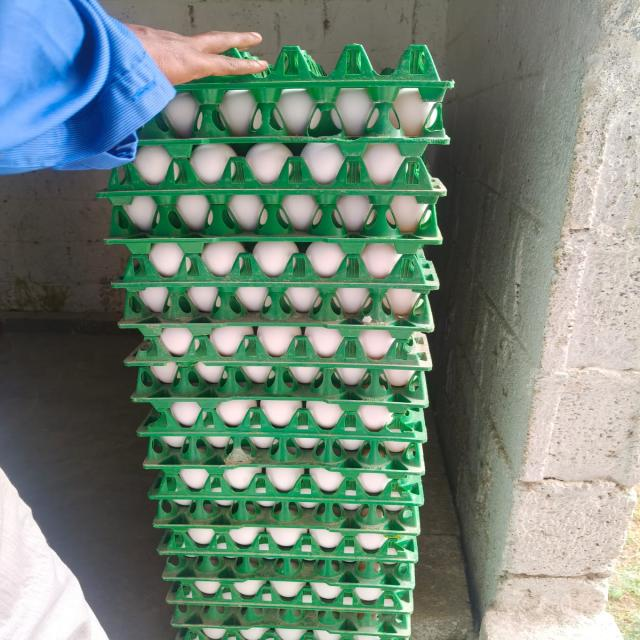egg_tray: (139, 400, 425, 511), (138, 400, 425, 509), (140, 44, 452, 144), (145, 438, 423, 548), (113, 240, 438, 326), (125, 324, 431, 412), (154, 466, 421, 561), (154, 466, 419, 561), (145, 438, 423, 527), (138, 398, 426, 482), (97, 139, 445, 204), (150, 467, 423, 548), (106, 191, 441, 253), (121, 320, 431, 386), (125, 324, 431, 386), (140, 86, 449, 146), (119, 281, 433, 337), (149, 459, 423, 521), (114, 239, 437, 291), (154, 500, 419, 562), (177, 44, 452, 101), (154, 499, 419, 557), (149, 456, 423, 512), (138, 399, 426, 452), (154, 494, 419, 550), (132, 363, 428, 411), (163, 556, 414, 612), (131, 366, 428, 411), (163, 556, 414, 608), (149, 465, 423, 511), (143, 434, 424, 478), (163, 556, 415, 597), (158, 524, 417, 563), (172, 603, 410, 640), (172, 604, 410, 640), (172, 602, 410, 638), (167, 580, 413, 614), (172, 605, 410, 640), (166, 580, 413, 613), (166, 583, 413, 614), (175, 626, 380, 640), (328, 441, 358, 462), (328, 442, 357, 462), (180, 438, 203, 457), (220, 48, 259, 59), (355, 511, 383, 525), (314, 471, 335, 486), (149, 440, 169, 454), (181, 439, 198, 454), (252, 436, 273, 448), (275, 512, 292, 525), (360, 536, 383, 545), (227, 446, 250, 455), (241, 608, 253, 624), (207, 436, 228, 444), (224, 49, 247, 56), (163, 437, 180, 446), (343, 440, 364, 447), (252, 437, 273, 444), (359, 445, 367, 463), (345, 440, 363, 447), (152, 442, 161, 454), (163, 436, 178, 443), (253, 616, 266, 624), (381, 451, 391, 461), (192, 534, 204, 542), (276, 633, 293, 638), (395, 634, 409, 640), (150, 489, 159, 498), (154, 477, 163, 486), (342, 480, 355, 486), (305, 299, 313, 308), (209, 436, 225, 440), (363, 512, 372, 519), (398, 442, 407, 449), (218, 514, 228, 520), (334, 486, 341, 494), (376, 444, 383, 452), (363, 518, 372, 524), (233, 512, 239, 521), (398, 443, 407, 449), (268, 615, 277, 621), (300, 468, 313, 472), (257, 446, 270, 450), (407, 410, 419, 414), (247, 581, 263, 584), (262, 512, 270, 518), (200, 583, 209, 588), (307, 502, 314, 508), (376, 445, 381, 453), (257, 72, 266, 76), (402, 514, 409, 519), (417, 488, 421, 496), (361, 443, 365, 451), (152, 490, 157, 496), (201, 548, 206, 554), (228, 51, 237, 54), (172, 513, 177, 518), (206, 588, 212, 592), (244, 438, 248, 444), (367, 443, 375, 446), (390, 471, 397, 474), (238, 489, 243, 493), (401, 475, 406, 479), (252, 514, 257, 518), (285, 469, 291, 472), (172, 473, 175, 479), (327, 441, 333, 444), (354, 635, 362, 637), (327, 472, 335, 474), (167, 363, 171, 367), (316, 447, 321, 450), (316, 446, 321, 449), (306, 455, 310, 458), (281, 484, 287, 486), (170, 485, 174, 488), (336, 409, 340, 412), (342, 408, 348, 410), (156, 403, 160, 406), (181, 514, 185, 517), (364, 456, 366, 462), (369, 445, 373, 448), (423, 328, 428, 330), (317, 497, 322, 499), (227, 370, 230, 373), (202, 307, 205, 310), (226, 548, 229, 551), (147, 464, 150, 467), (201, 446, 204, 449), (256, 608, 259, 611), (232, 535, 234, 539), (307, 496, 311, 498), (370, 474, 374, 476), (363, 519, 367, 521), (316, 440, 318, 444), (334, 476, 338, 478), (417, 477, 419, 480), (321, 545, 327, 546), (367, 514, 370, 516), (330, 478, 332, 481), (254, 304, 257, 306), (261, 302, 263, 305), (384, 478, 386, 481), (342, 448, 344, 451), (377, 445, 379, 448), (152, 402, 155, 404), (236, 540, 241, 541), (326, 514, 330, 515), (299, 549, 303, 550), (322, 545, 326, 546), (227, 373, 229, 375), (220, 516, 222, 518), (227, 474, 229, 476), (205, 328, 207, 330), (341, 302, 343, 304), (210, 587, 214, 588), (245, 439, 247, 441), (369, 514, 371, 516), (243, 450, 245, 452), (168, 444, 170, 446), (202, 589, 205, 590), (241, 632, 242, 635), (174, 469, 177, 470), (201, 405, 204, 406), (350, 452, 352, 453), (227, 372, 228, 374), (228, 496, 230, 497), (160, 458, 162, 459), (355, 407, 357, 408), (261, 305, 263, 306), (392, 526, 393, 528), (240, 518, 242, 519), (254, 58, 256, 59), (394, 442, 395, 444), (222, 636, 224, 637), (259, 443, 261, 444), (154, 443, 156, 444), (302, 542, 303, 543), (371, 447, 372, 448), (334, 545, 335, 546), (334, 540, 335, 541), (221, 496, 222, 497), (341, 474, 342, 475), (389, 520, 390, 521), (189, 520, 190, 521), (234, 507, 235, 508), (205, 636, 206, 637), (363, 608, 363, 608), (264, 501, 270, 501), (294, 554, 294, 554), (367, 548, 368, 548), (337, 456, 337, 456), (170, 596, 170, 598), (417, 327, 417, 328), (248, 543, 248, 543), (250, 536, 250, 537), (243, 534, 243, 534), (312, 476, 312, 477), (254, 405, 255, 405), (307, 310, 308, 310), (363, 300, 363, 302), (287, 520, 287, 521), (179, 518, 179, 519), (411, 516, 412, 516), (265, 516, 266, 516), (257, 444, 257, 446), (236, 452, 237, 452), (200, 452, 202, 452), (350, 450, 353, 450), (314, 448, 315, 448), (173, 448, 177, 448), (282, 472, 284, 472), (390, 407, 390, 408)
